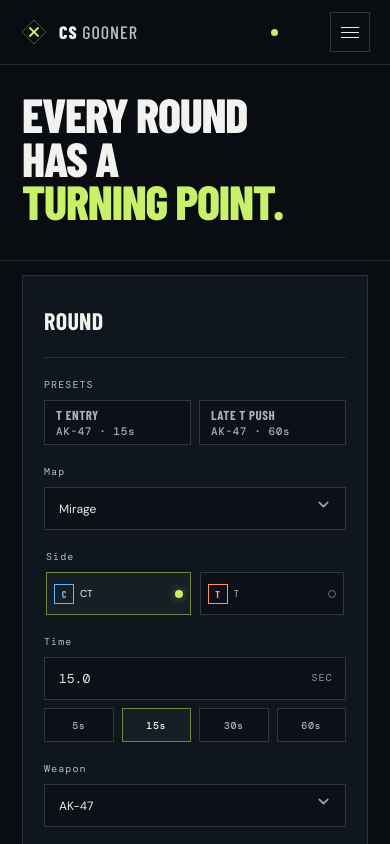
it: design review polish › nav: a menu button keeps every link reachable and closes on use / Escape
Click the button named "Open menu" at x=350, y=32, box top-left (330, 12), bottom-right (370, 52)
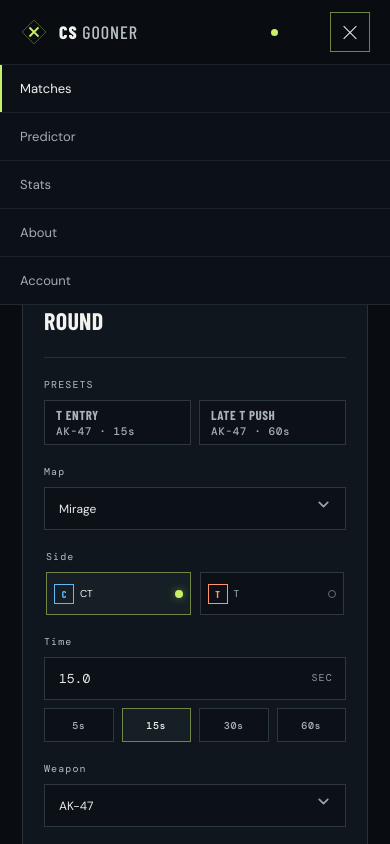
Expected: the button named "Close menu" is expanded, top-left (330, 12), bottom-right (370, 52)
Click the link "Matches" at x=46, y=88, box top-left (0, 64), bottom-right (389, 112)
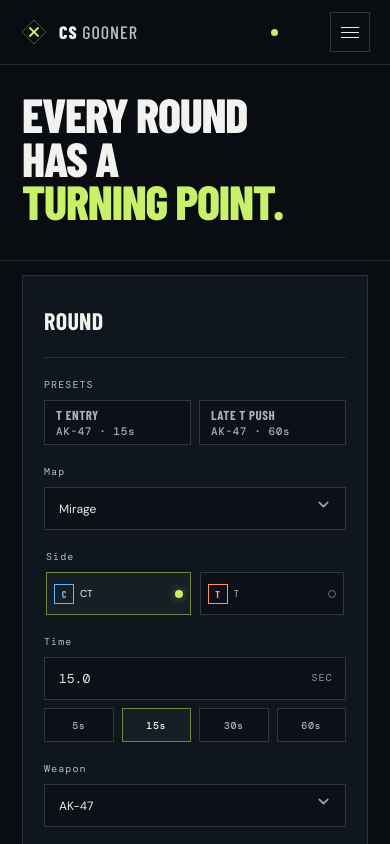
Expected: the header with class "topbar" does not have class "menu-open", top-left (0, 0), bottom-right (389, 65)
Click the button named "Open menu" at x=350, y=32, box top-left (330, 12), bottom-right (370, 52)
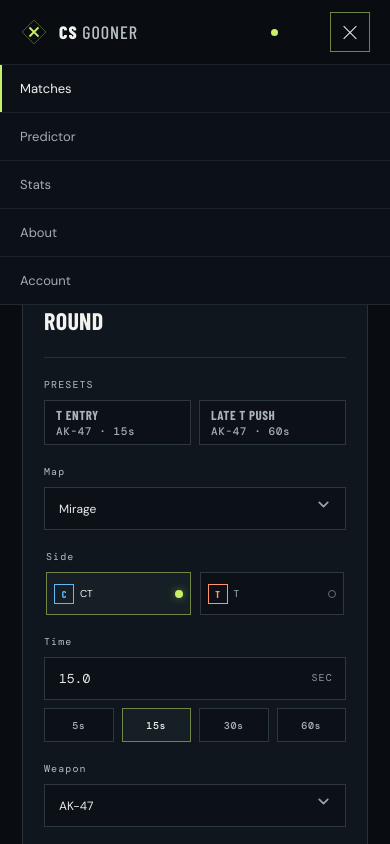
Press Escape
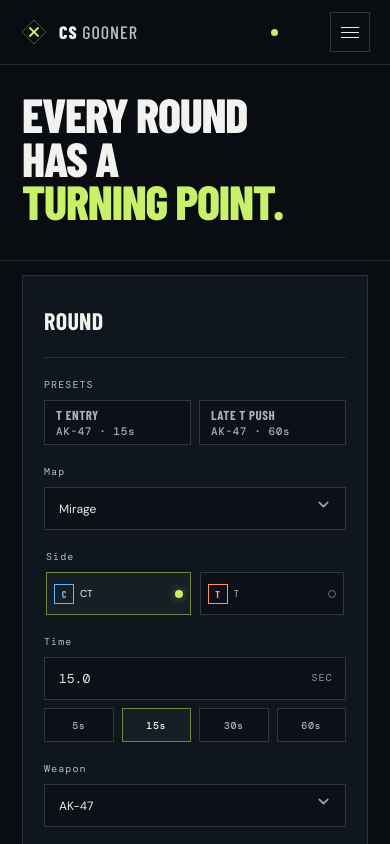
Expected: the button named "Open menu" is collapsed, top-left (330, 12), bottom-right (370, 52)
